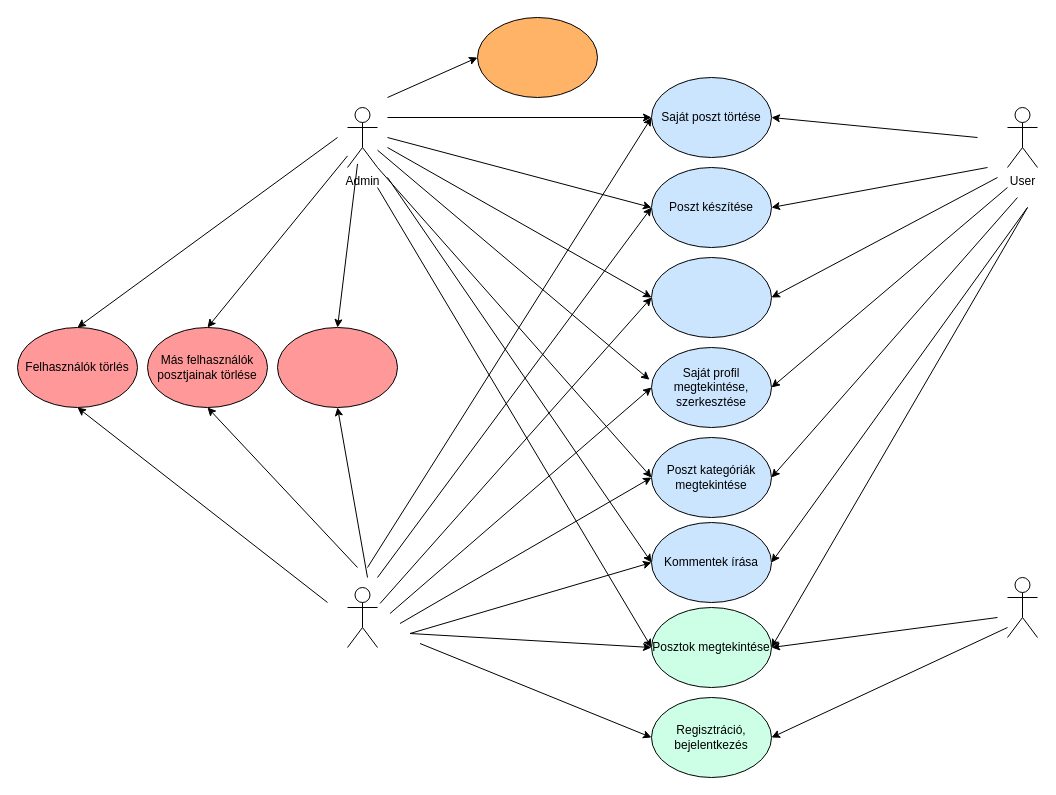
This 1056x795 diagram has some shape labels left out. The centre of each missing label's shape, as x and y in pixels:
Guest: [1022,607]
Letöltés: [711,297]
Mod: [362,617]
Mod rang adása felhasználóknak: [537,57]
Más profilok szerkesztése: [337,367]
